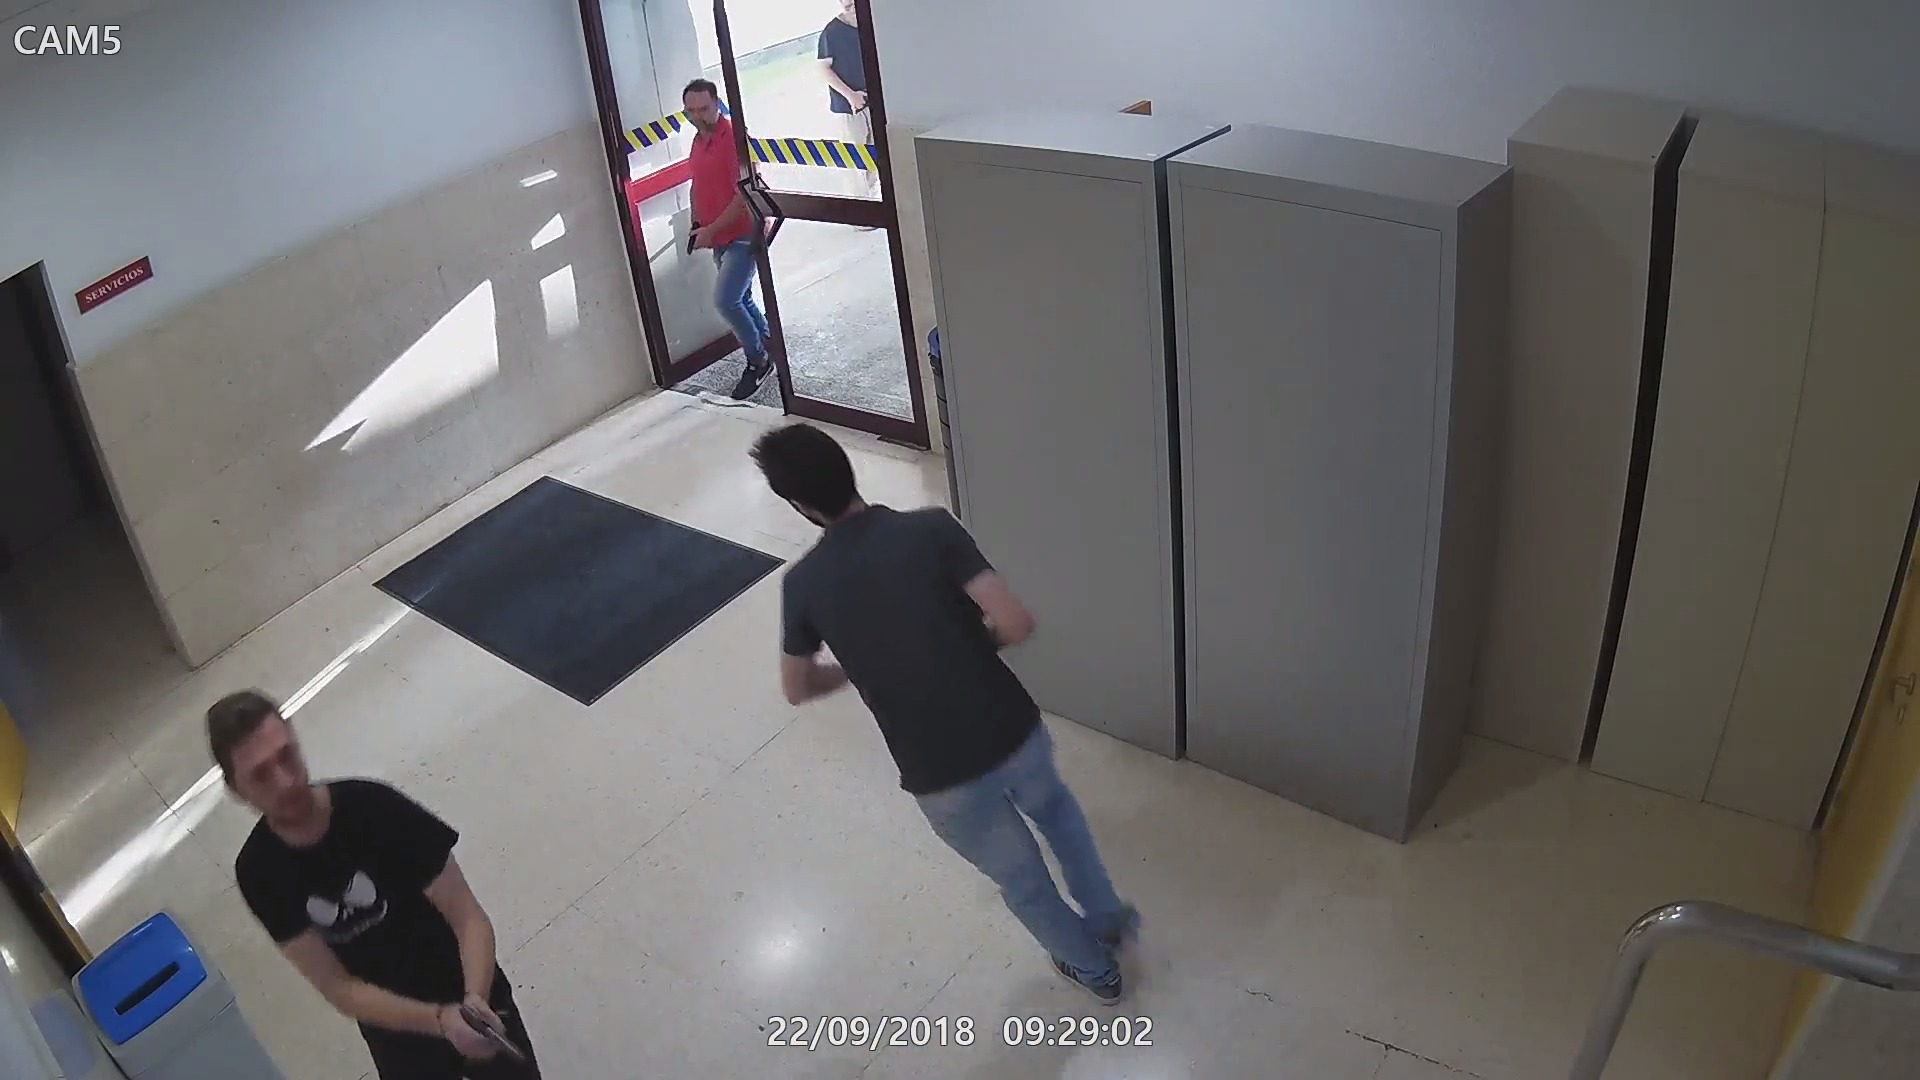Handgun: (448, 1002, 542, 1065), (683, 212, 711, 258)
